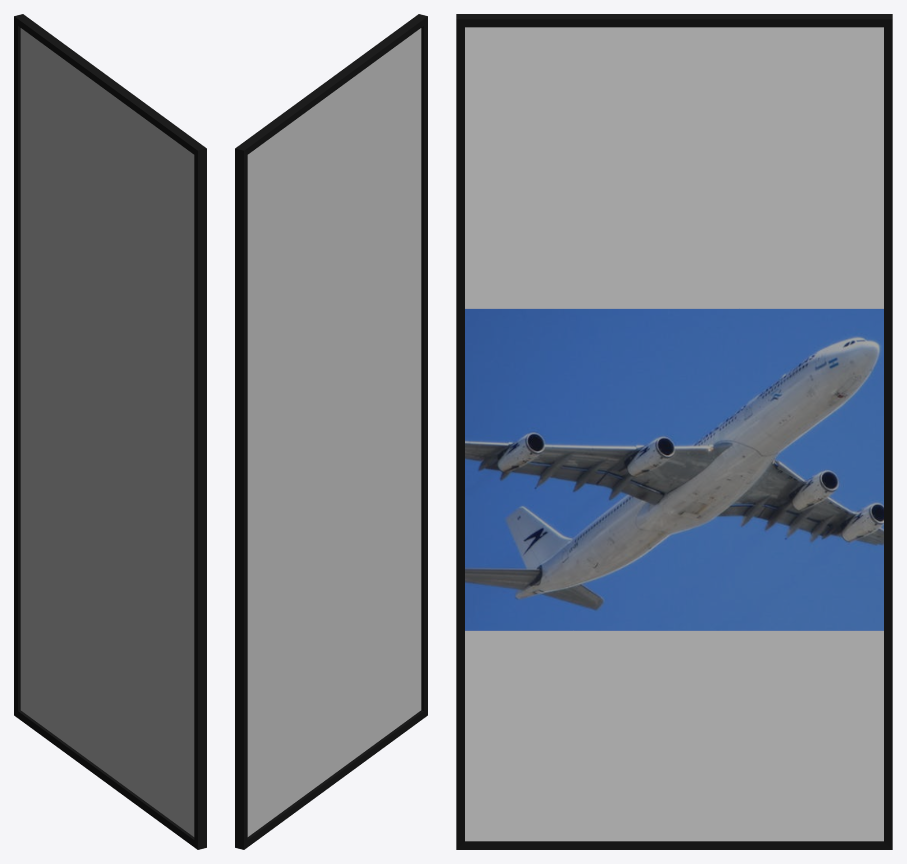
Rendered from viz_poster.dae.
3 views of the same model, side by side, from view 1: azimuth 30°, elevation 25°; view 2: azimuth 150°, elevation 25°; view 3: azimuth 270°, elevation 25° (orthographic). The views are drawn at different scales.
Parts seen in each view (by area): view 1: Cube; view 2: Cube; view 3: Cube.
Boxes of the visible parts, <box> form: Cube: <box>14,14,206,849</box>; Cube: <box>235,14,427,849</box>; Cube: <box>456,14,892,849</box>.
Bounding box in the file's own units: 0.0208 × 0.7291 × 1.53.
Materials: 3 (1 with a texture image).
